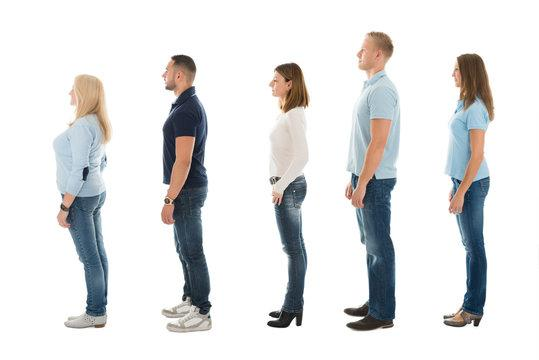long sleeve shirt: (265, 106, 311, 194)
short sleeve shirt: (346, 70, 400, 180), (161, 86, 208, 187), (444, 95, 493, 183)
sweater: (51, 111, 107, 196)
trousers: (348, 172, 399, 321), (449, 174, 492, 317), (62, 187, 109, 315), (167, 181, 210, 315), (269, 176, 309, 315)
